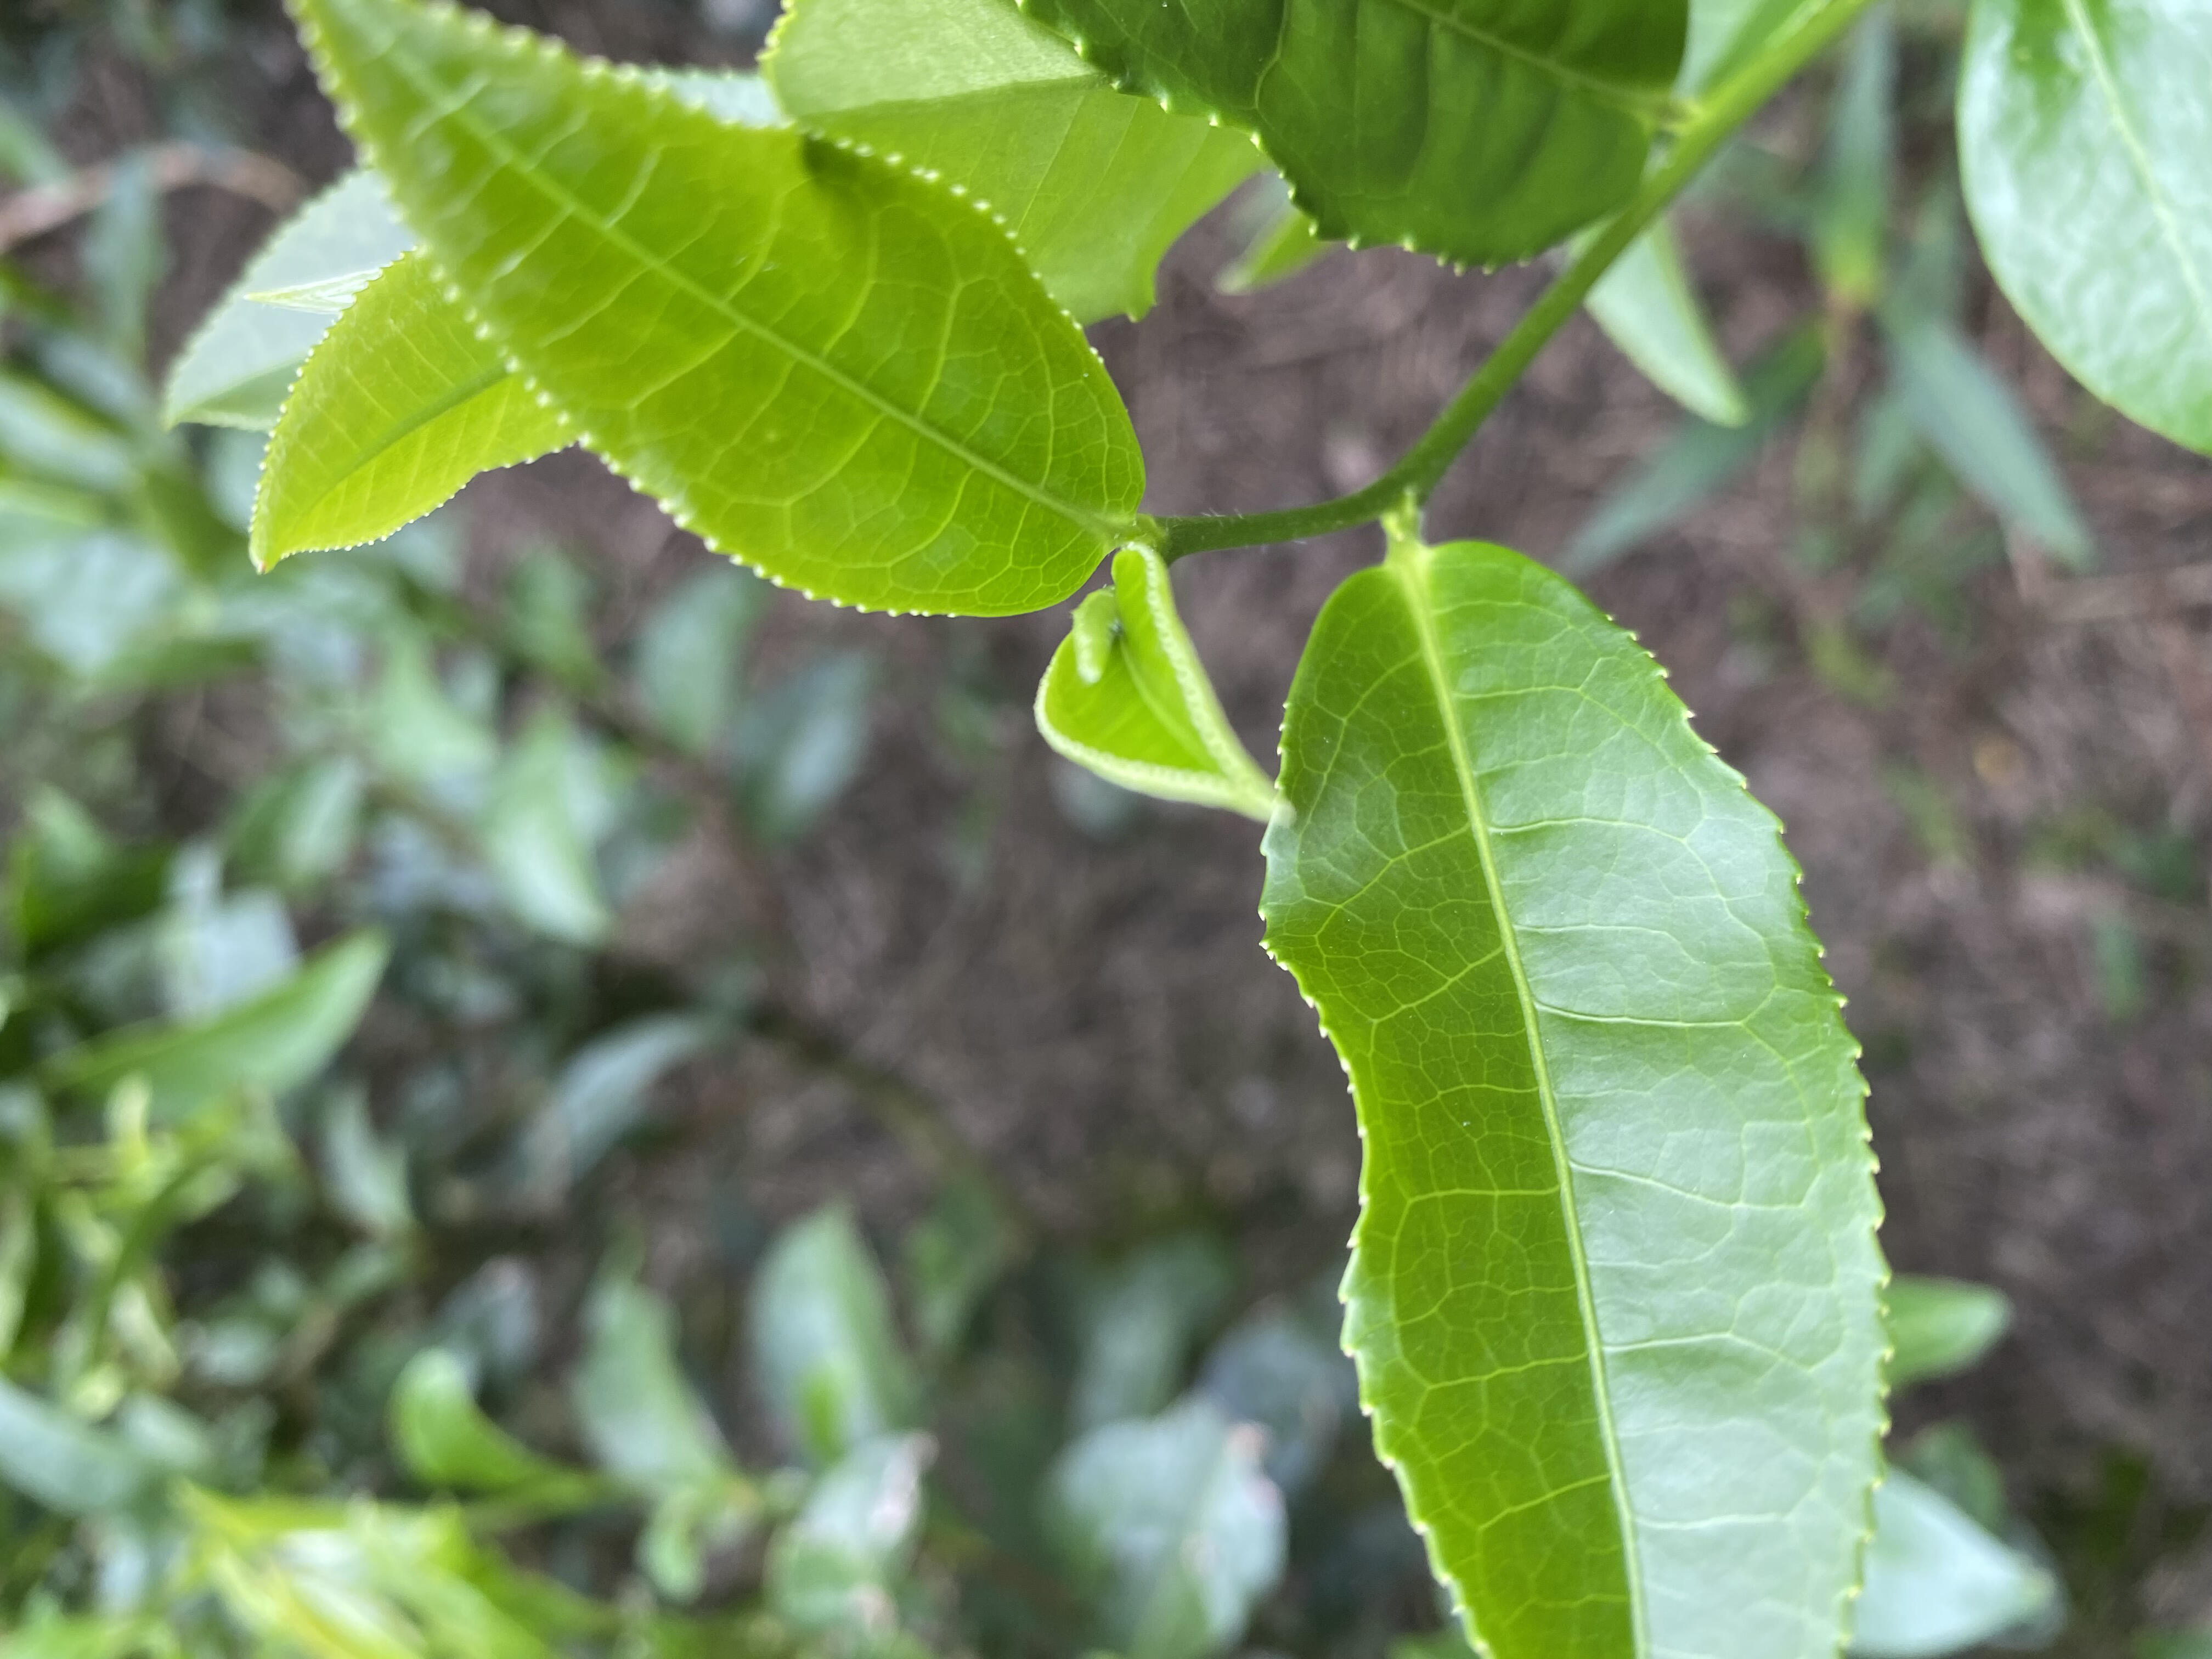healthy: (1252, 537, 1895, 1656), (294, 2, 1141, 624)
